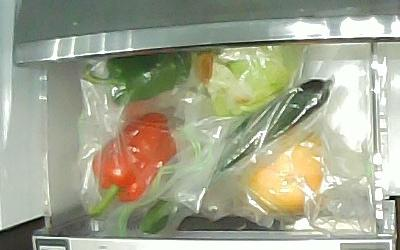cucumber_vinyl: (125, 72, 334, 232)
grapefruit_vinyl: (245, 132, 325, 214)
lettuce_vinyl: (195, 43, 307, 117)
paprika_vinyl: (85, 112, 176, 217), (84, 47, 191, 102)
